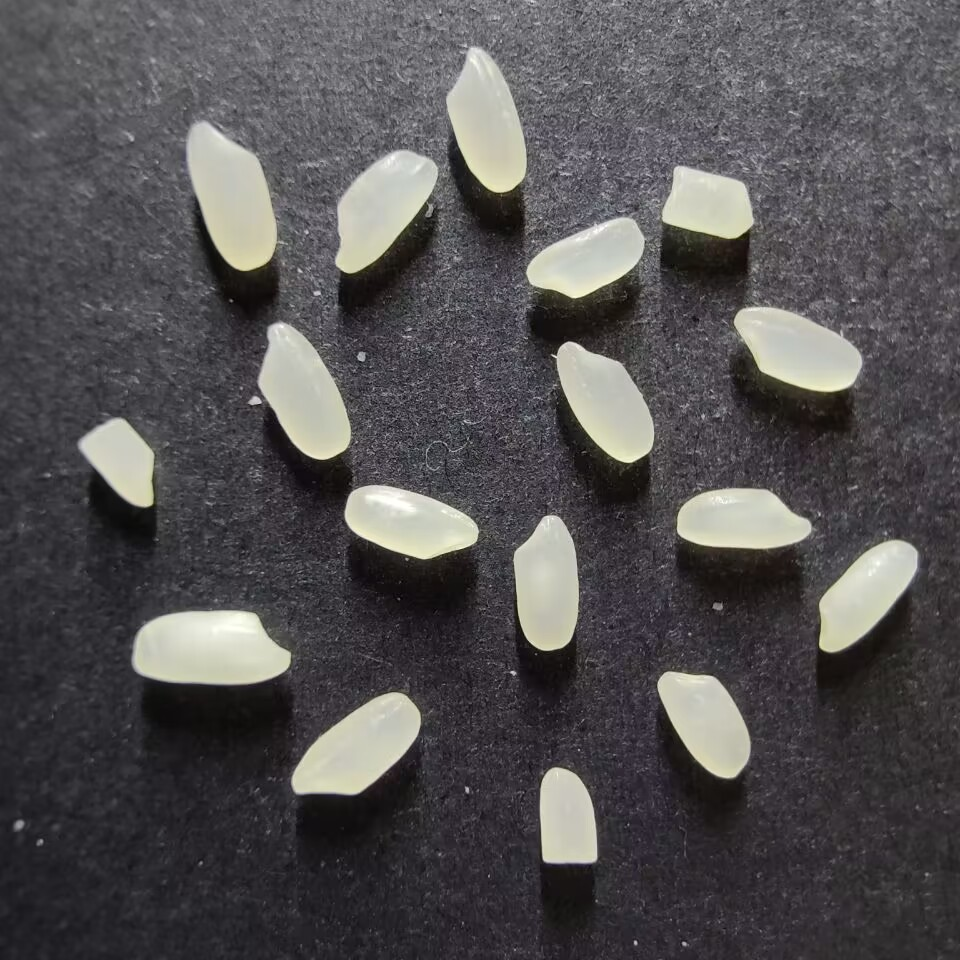broken: (660, 165, 755, 239), (78, 418, 155, 508), (538, 767, 597, 865)
rice: (553, 339, 664, 478), (186, 120, 276, 271), (290, 692, 420, 796), (333, 149, 438, 274), (257, 322, 350, 459), (132, 609, 291, 685), (445, 47, 527, 193), (817, 539, 919, 653), (733, 306, 862, 391), (343, 484, 479, 560), (656, 671, 750, 779), (526, 216, 645, 298), (512, 514, 579, 650), (675, 488, 812, 549)
